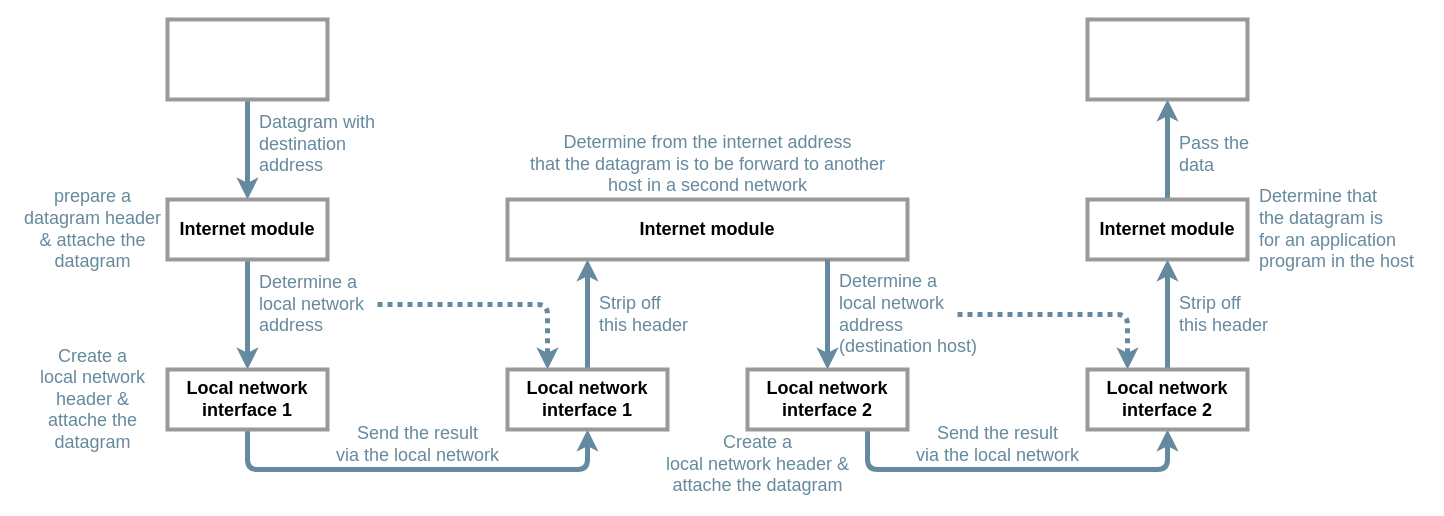
This 1444x516 diagram has some shape labels left out. Here are the shapes that lost their labels. From the top down, the box of each, then its label:
(165, 17, 329, 101): Sender application program
(1085, 17, 1249, 101): Receiver application program
